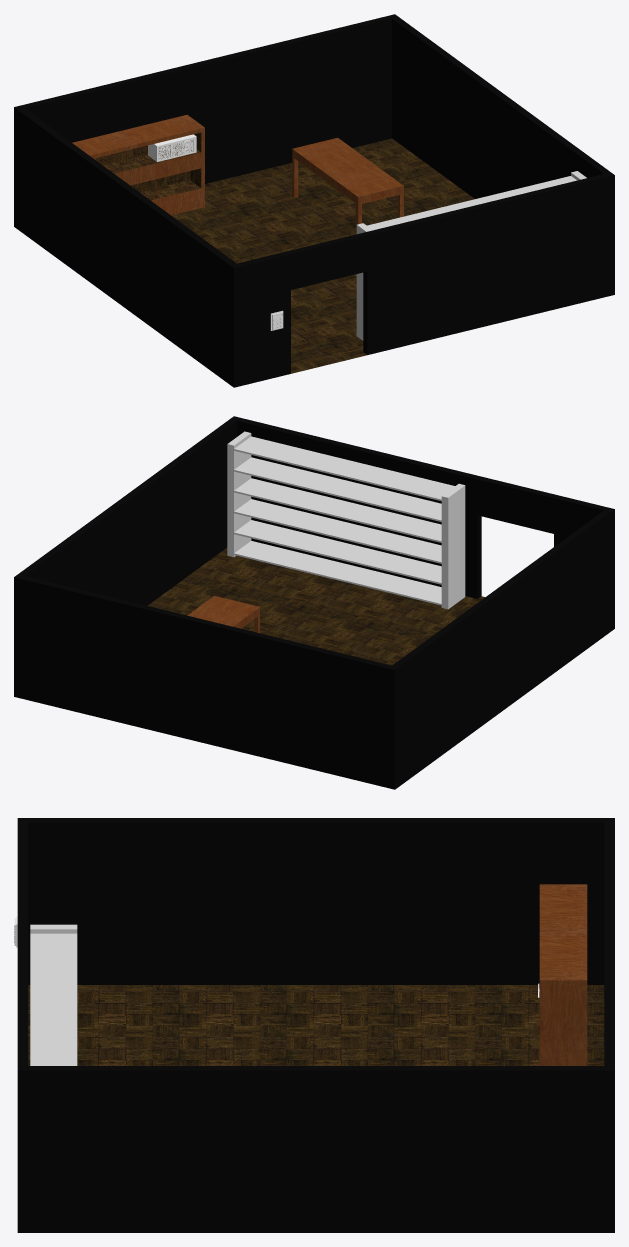
The model's file is chief_office.glb.
3 views of the same model, one above another, from view 1: azimuth 30°, elevation 25°; view 2: azimuth 150°, elevation 25°; view 3: azimuth 270°, elevation 25° (orthographic). The views are drawn at different scales.
Parts seen in each view (by area): view 1: Walls, Floor, SketchUp.005, Table, Shelves1, SketchUp.007, SketchUp.006, SketchUp.009; view 2: Walls, Shelves1, Floor, Table; view 3: Walls, Floor, SketchUp.005, Shelves1.
Part boxes in pixels (box(x1,y1,x2,y2)): Walls: box(14, 14, 614, 387); Floor: box(171, 138, 474, 373); SketchUp.005: box(72, 114, 204, 215); Table: box(292, 137, 403, 234); Shelves1: box(356, 171, 586, 340); SketchUp.007: box(131, 168, 201, 200); SketchUp.006: box(94, 132, 201, 173); SketchUp.009: box(148, 134, 196, 161); Walls: box(14, 416, 614, 789); Shelves1: box(227, 431, 465, 609); Floor: box(147, 547, 485, 665); Table: box(187, 595, 259, 633); Walls: box(17, 818, 614, 1232); Floor: box(28, 985, 604, 1065); SketchUp.005: box(539, 884, 587, 1065); Shelves1: box(30, 924, 77, 1065).
Size of the model in its own units: 10 by 3 by 10.06.
Materials: 4 (2 with a texture image).
